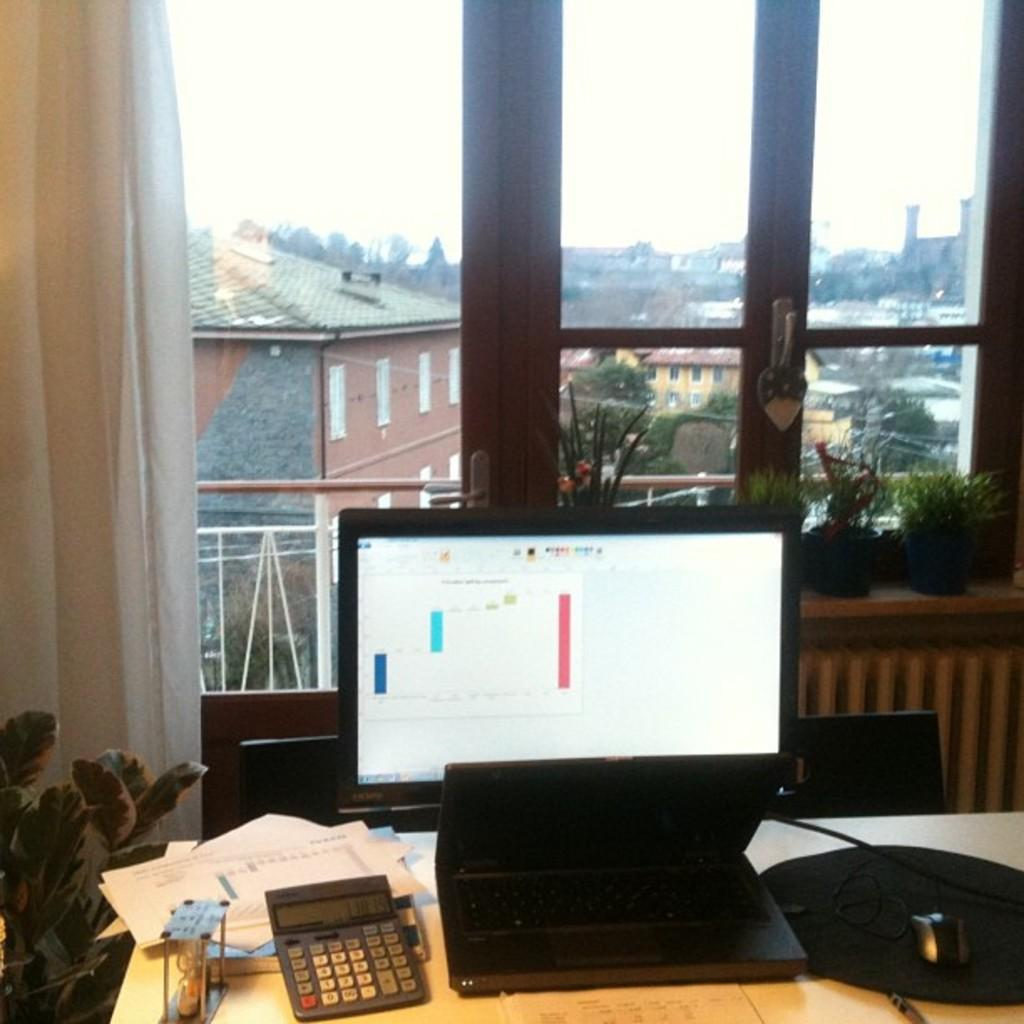Computer-mouse: (914, 904, 962, 962)
